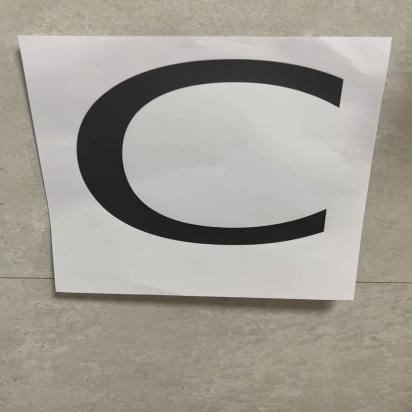seat: (23, 36, 374, 302)
